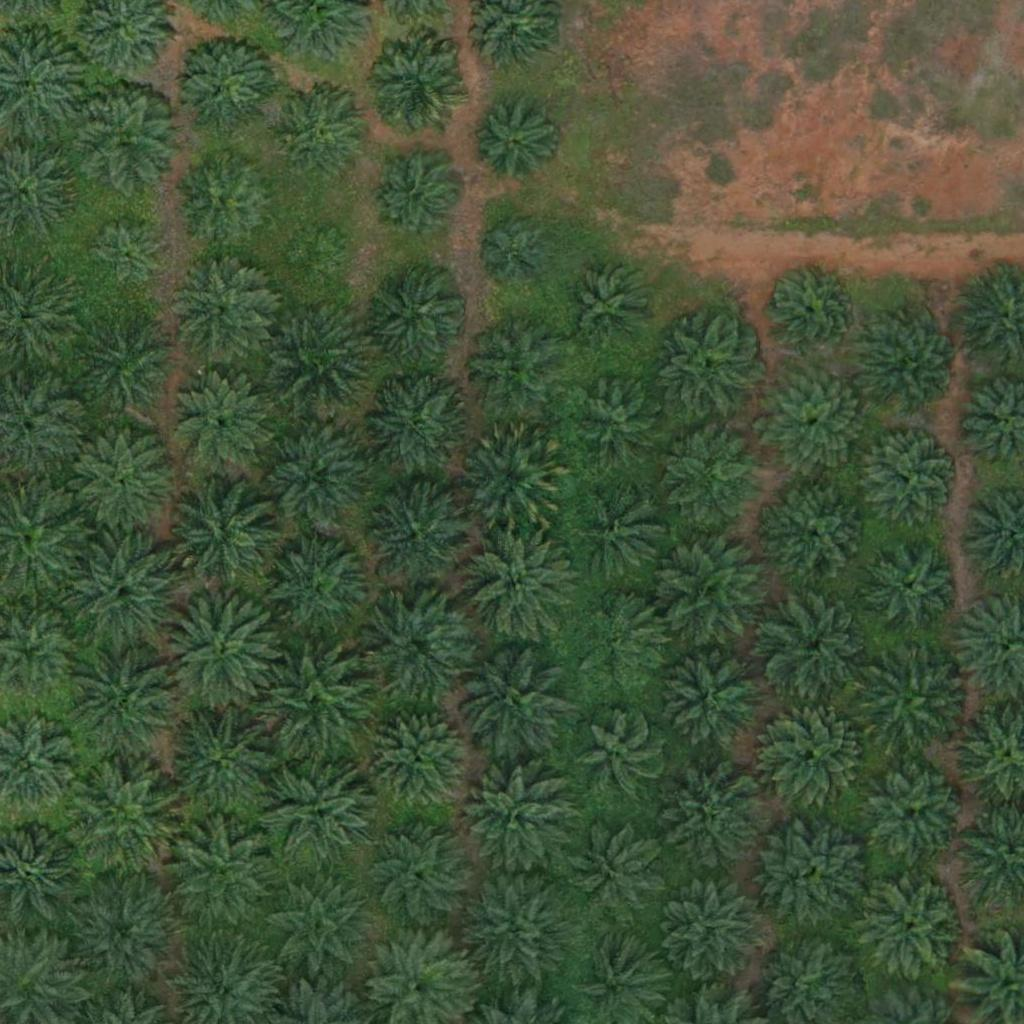Kelapa_Sawit: (69, 642, 182, 756), (167, 818, 280, 932), (758, 366, 871, 480), (762, 478, 875, 592), (859, 642, 972, 756), (260, 873, 373, 987), (456, 422, 569, 535), (359, 263, 472, 376), (70, 535, 183, 648), (164, 596, 277, 709), (166, 705, 279, 818), (460, 526, 573, 639), (455, 643, 568, 756), (459, 765, 572, 878), (657, 873, 770, 986), (70, 767, 182, 881), (360, 371, 472, 484), (261, 300, 373, 413), (259, 422, 371, 535), (66, 876, 178, 989), (167, 476, 279, 589), (257, 529, 369, 642), (256, 645, 368, 758), (264, 759, 376, 872), (359, 592, 471, 705), (363, 816, 475, 929), (462, 873, 574, 986), (660, 536, 772, 649), (658, 644, 770, 757), (762, 593, 874, 706), (761, 817, 873, 930), (464, 319, 564, 420), (275, 82, 375, 183), (173, 31, 273, 132), (177, 150, 277, 251), (169, 258, 269, 359), (169, 369, 269, 470), (74, 88, 174, 189), (76, 314, 176, 415), (74, 430, 174, 531), (365, 484, 465, 585), (368, 707, 468, 808), (666, 768, 766, 869), (764, 704, 864, 805), (861, 318, 961, 419), (866, 761, 966, 862), (859, 876, 959, 977), (365, 37, 465, 137), (657, 318, 757, 418), (670, 428, 770, 528), (861, 427, 961, 527), (864, 538, 964, 638), (469, 101, 557, 189), (564, 263, 652, 351), (575, 493, 663, 581), (580, 383, 667, 471), (371, 153, 458, 241), (579, 597, 666, 685), (574, 711, 661, 799), (575, 827, 662, 915), (765, 266, 852, 354), (87, 220, 162, 295), (482, 221, 545, 284), (284, 224, 346, 287)
